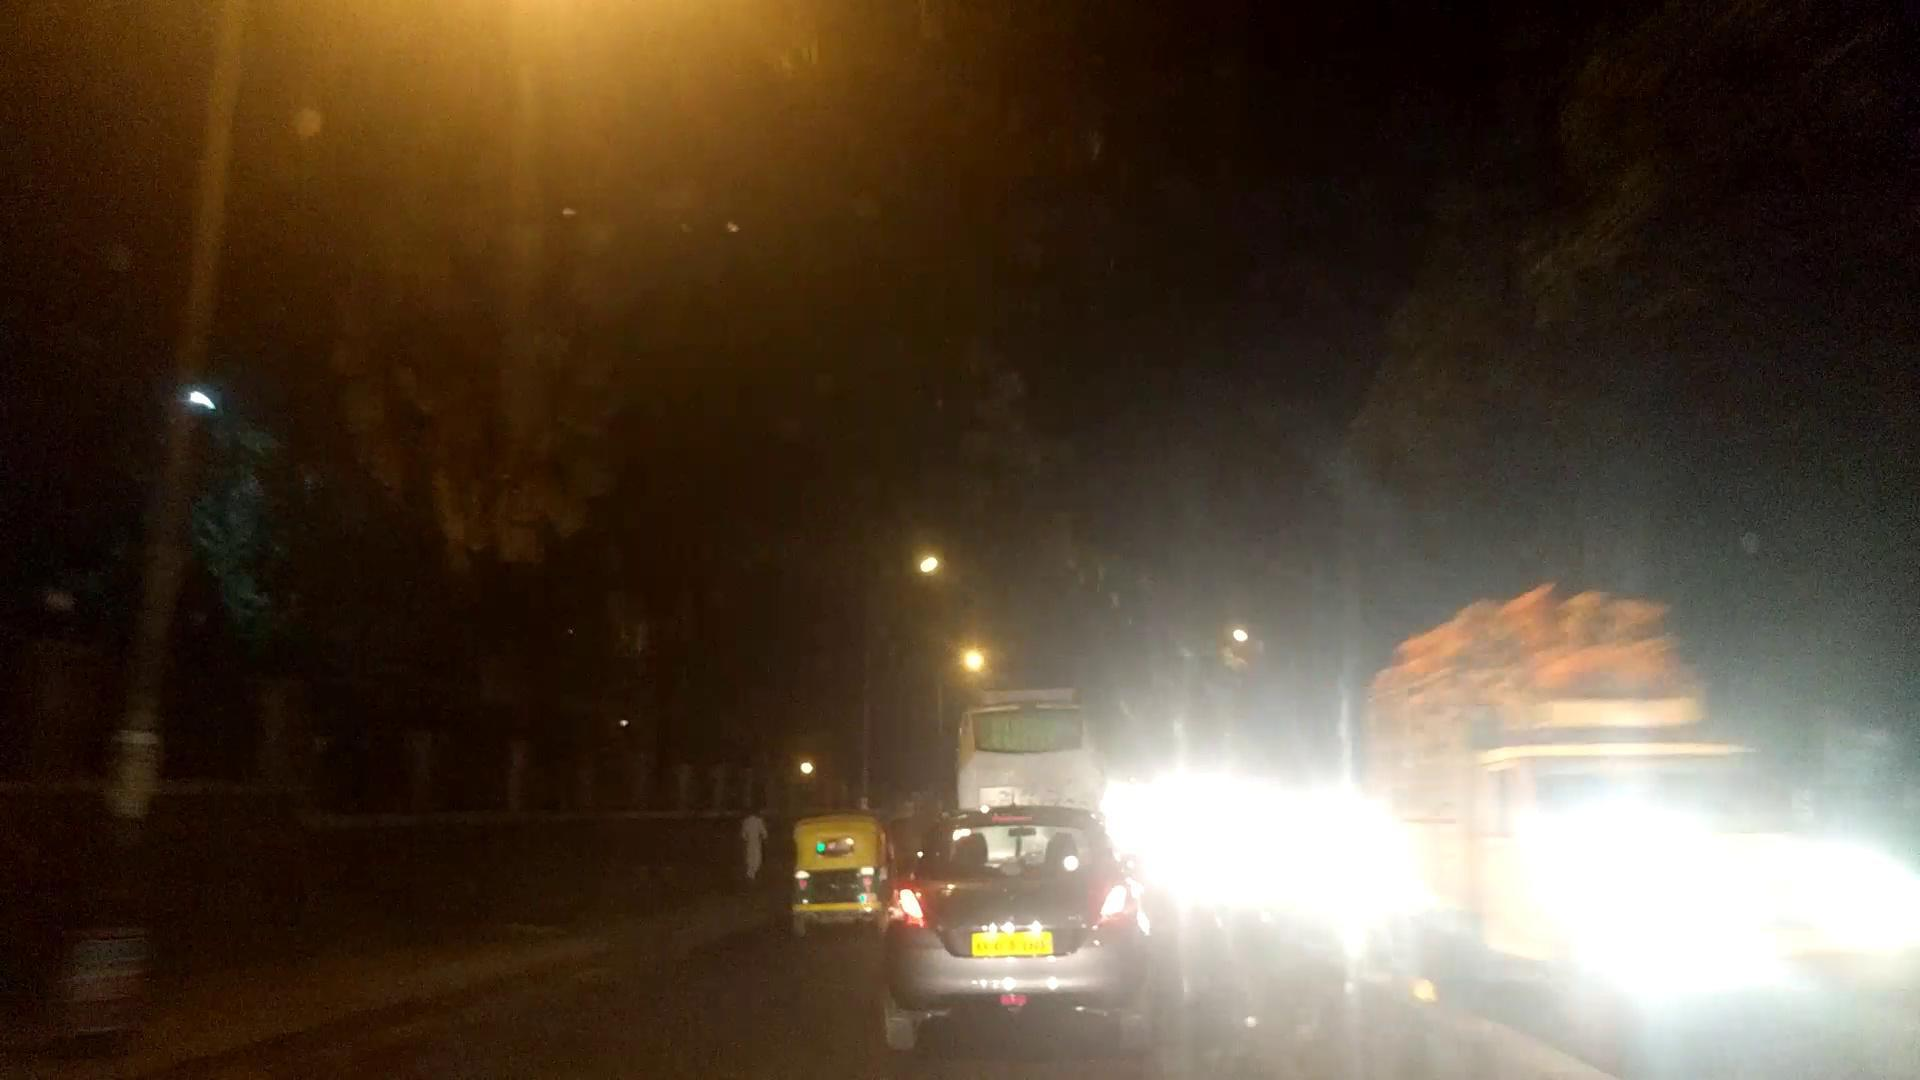on: (80, 0, 919, 258)
